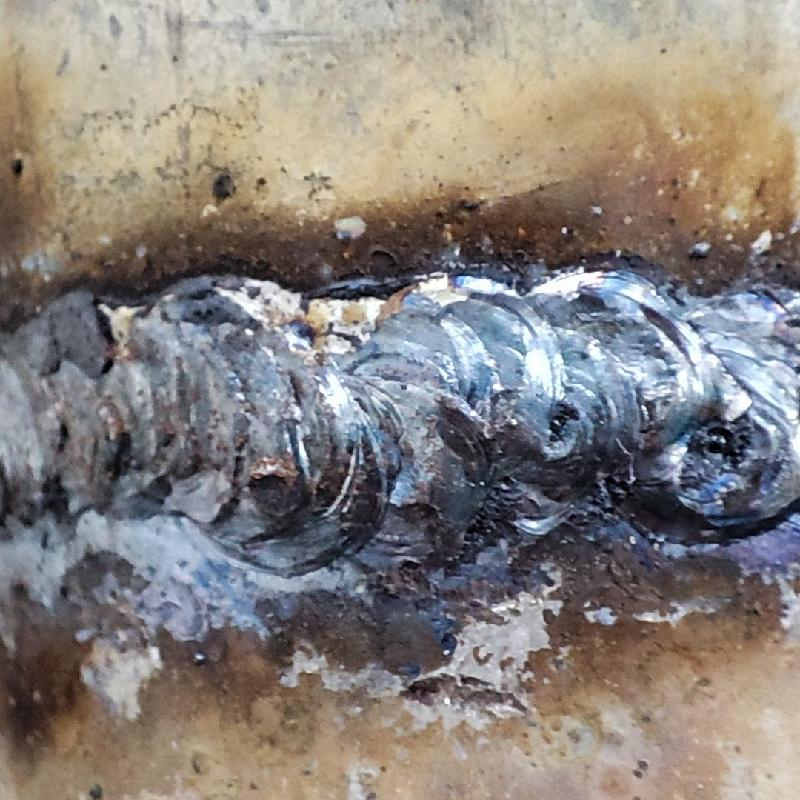Surface_pores: (690, 415, 749, 471), (537, 401, 581, 453)
good: (0, 274, 799, 566)
